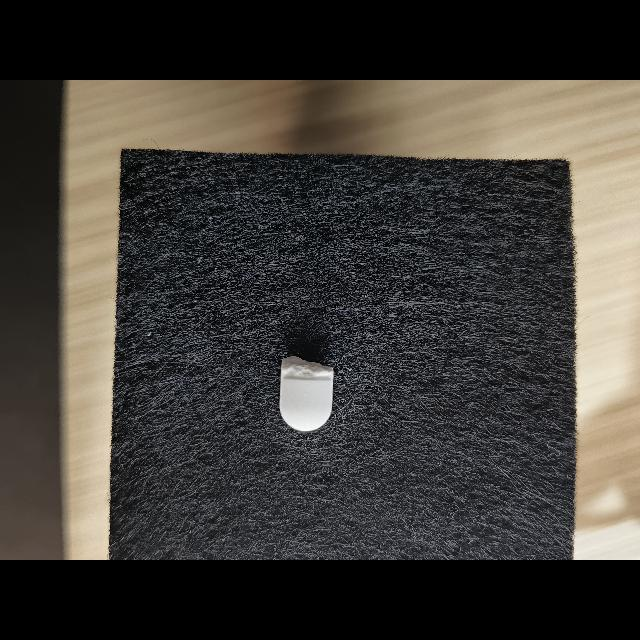Chipped Pill: (279, 356, 334, 431)
